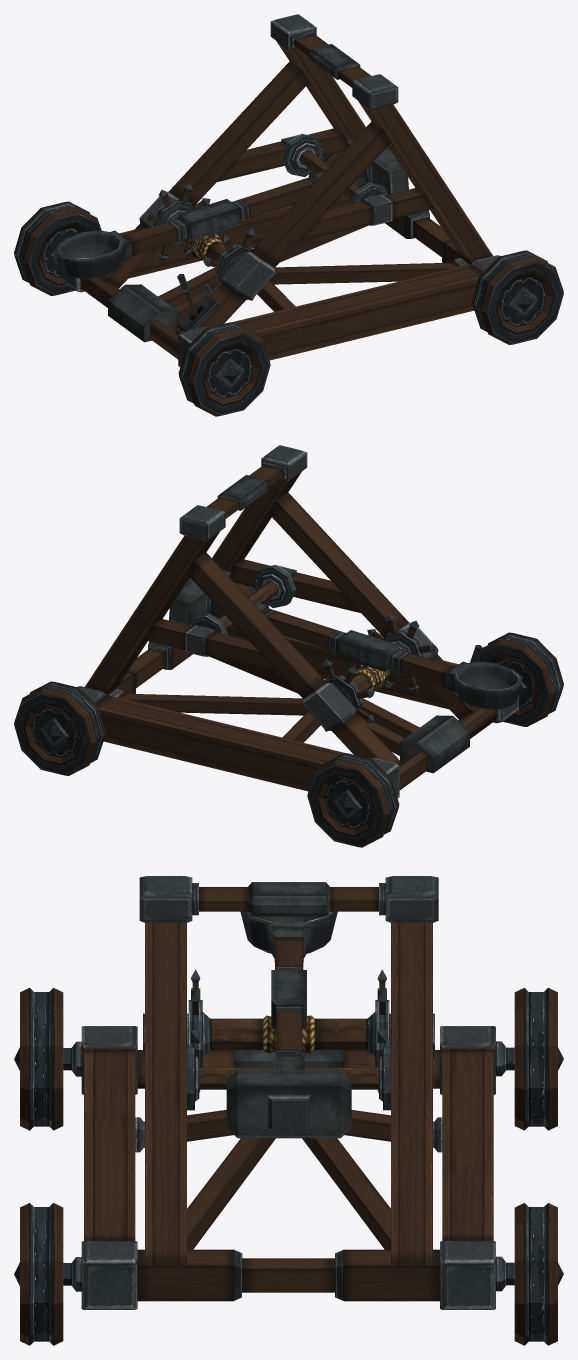
The model's file is catapult_type1.FBX.
3 views of the same model, one above another, from view 1: azimuth 30°, elevation 25°; view 2: azimuth 150°, elevation 25°; view 3: azimuth 270°, elevation 25° (orthographic). The views are drawn at different scales.
Visible parts, largest first — view 1: catapult1_a, catapult1_b, catapult1_wheel1, catapult1_wheel2, catapult1_wheel4; view 2: catapult1_a, catapult1_b, catapult1_wheel4, catapult1_wheel3, catapult1_wheel1; view 3: catapult1_a, catapult1_b, catapult1_wheel4, catapult1_wheel3, catapult1_wheel1, catapult1_wheel2.
Part boxes in pixels (x1=…): catapult1_a: x1=59, y1=14, x2=500, y2=366; catapult1_b: x1=55, y1=133, x2=408, y2=279; catapult1_wheel1: x1=178, y1=322, x2=270, y2=416; catapult1_wheel2: x1=472, y1=250, x2=563, y2=344; catapult1_wheel4: x1=14, y1=201, x2=101, y2=295; catapult1_a: x1=77, y1=445, x2=518, y2=797; catapult1_b: x1=169, y1=564, x2=522, y2=710; catapult1_wheel4: x1=307, y1=753, x2=399, y2=847; catapult1_wheel3: x1=14, y1=681, x2=105, y2=775; catapult1_wheel1: x1=477, y1=632, x2=563, y2=726; catapult1_a: x1=81, y1=876, x2=495, y2=1309; catapult1_b: x1=187, y1=911, x2=390, y2=1138; catapult1_wheel4: x1=496, y1=988, x2=563, y2=1130; catapult1_wheel3: x1=496, y1=1203, x2=563, y2=1345; catapult1_wheel1: x1=14, y1=988, x2=81, y2=1130; catapult1_wheel2: x1=14, y1=1203, x2=81, y2=1345.
Bounding box in the file's own units: 390 × 225 × 296.
